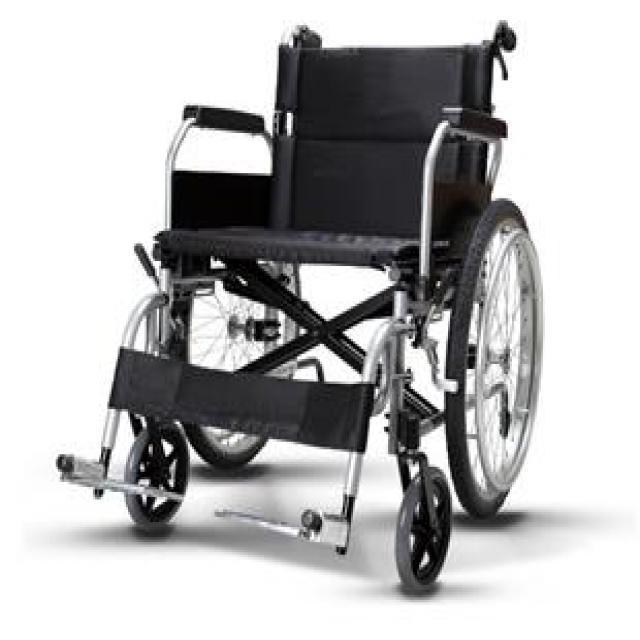wheelchairs: (57, 24, 544, 592)
